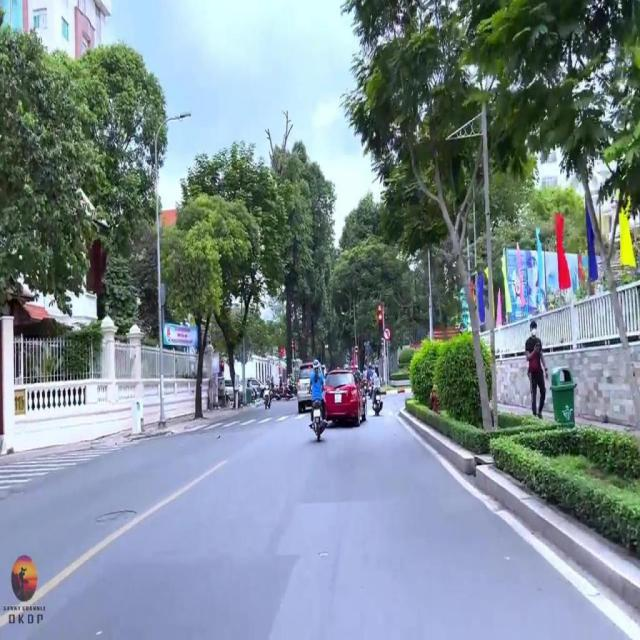cam_o_to_tai: (354, 345, 359, 353)
cam_re_trai: (383, 327, 391, 340)
